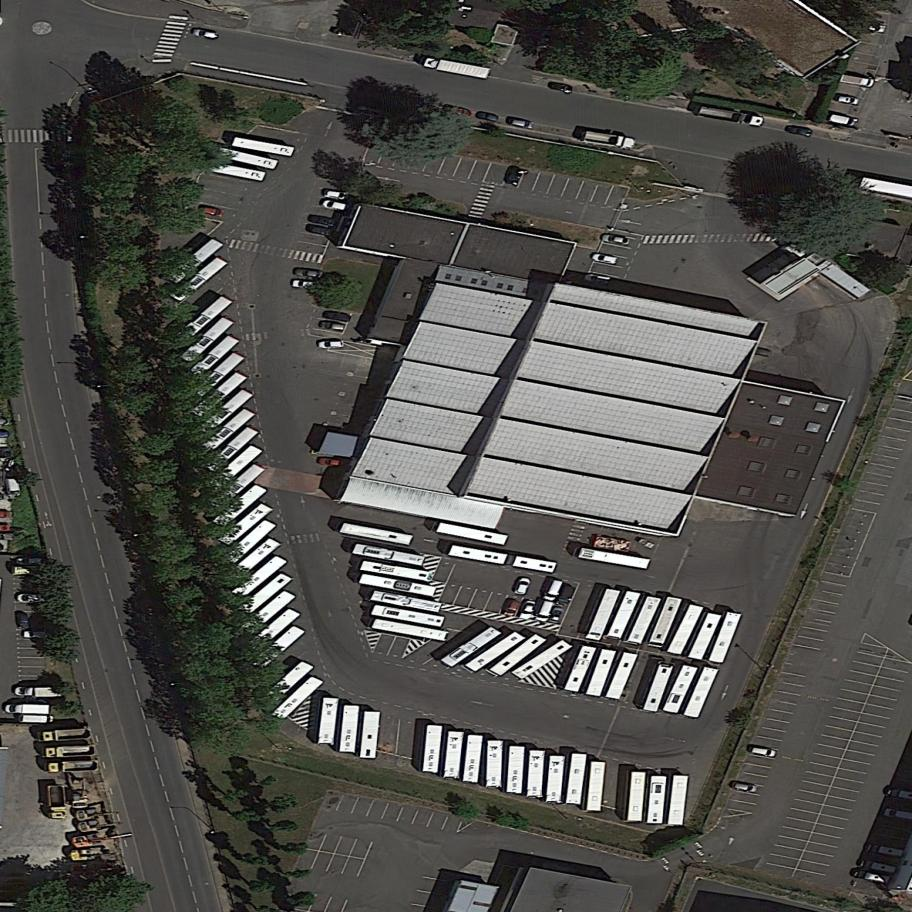large-vehicle: (165, 234, 225, 288), (449, 544, 557, 574), (215, 499, 276, 551), (203, 422, 261, 476), (463, 628, 528, 676), (179, 313, 236, 367), (440, 623, 504, 671), (231, 551, 290, 603), (211, 481, 269, 533), (169, 254, 228, 305), (489, 630, 549, 680), (185, 331, 241, 384), (190, 349, 247, 401), (190, 368, 248, 419), (209, 460, 267, 511), (241, 586, 298, 637), (237, 569, 295, 619), (271, 672, 326, 724), (512, 637, 575, 682), (224, 515, 278, 567), (251, 622, 307, 672), (246, 605, 301, 655), (179, 292, 234, 342), (200, 385, 255, 435), (201, 405, 257, 454), (227, 534, 282, 583), (211, 442, 263, 491), (264, 656, 315, 705), (624, 591, 664, 649), (666, 600, 705, 659), (683, 663, 721, 721), (584, 585, 621, 644), (604, 586, 641, 643), (708, 608, 743, 667), (604, 648, 641, 703), (648, 594, 683, 652), (662, 661, 698, 717), (562, 640, 598, 696), (687, 609, 723, 664), (372, 617, 451, 642), (359, 573, 438, 598), (371, 603, 448, 628), (339, 521, 415, 546), (642, 658, 675, 715), (352, 542, 427, 567), (577, 546, 652, 571), (436, 521, 510, 546), (422, 56, 493, 81), (371, 590, 444, 614), (586, 646, 618, 700), (361, 560, 435, 583), (217, 146, 278, 171), (698, 106, 765, 128), (566, 751, 590, 807), (232, 136, 296, 157), (461, 733, 486, 785), (358, 709, 382, 760), (421, 723, 445, 774), (210, 162, 267, 183), (668, 773, 690, 827), (585, 759, 607, 813), (443, 729, 466, 780), (625, 770, 647, 823), (317, 696, 340, 746), (646, 774, 668, 826), (338, 703, 360, 754), (584, 131, 638, 151), (546, 754, 567, 805), (526, 749, 547, 799), (506, 745, 527, 795), (485, 739, 505, 789)
small-vehicle: (37, 727, 94, 743), (857, 857, 899, 877), (44, 759, 99, 774), (45, 784, 68, 819), (540, 573, 565, 605), (853, 867, 893, 887), (864, 841, 905, 860), (41, 745, 97, 758), (725, 777, 760, 797), (533, 596, 557, 625), (825, 111, 860, 130), (838, 72, 877, 89), (555, 581, 577, 609), (517, 595, 539, 623), (320, 197, 353, 215), (190, 25, 223, 43), (15, 685, 68, 696), (5, 703, 53, 715), (512, 573, 534, 599), (501, 594, 523, 620), (441, 102, 474, 119), (581, 271, 614, 288), (590, 250, 621, 268), (601, 231, 633, 248), (305, 212, 338, 228), (503, 161, 523, 187), (746, 743, 778, 759), (305, 222, 335, 239), (15, 713, 56, 725), (547, 604, 567, 628), (782, 123, 814, 138), (506, 116, 536, 131), (545, 79, 575, 94), (832, 91, 860, 107), (317, 319, 348, 333), (319, 188, 352, 201), (293, 266, 323, 280), (473, 109, 500, 124), (199, 205, 227, 219), (323, 309, 353, 322), (15, 609, 31, 632), (317, 456, 347, 468), (291, 279, 321, 291), (17, 593, 51, 603), (317, 338, 345, 350), (23, 629, 52, 638)
